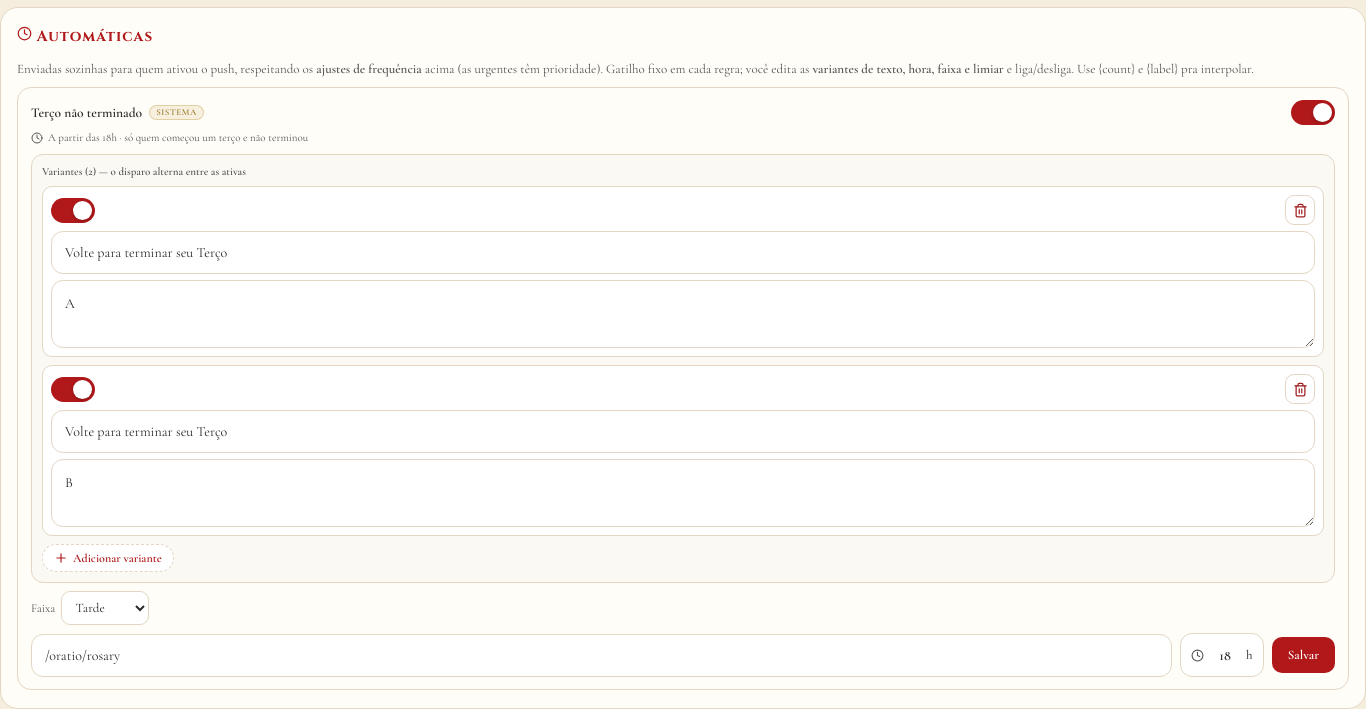
Test case: AdminNotifications › deletes a variant after confirmation via deleteVariant
The image size is (1366, 709).
(page scrolled)
Expected: the text "Variantes (2) — o disparo alterna entre as ativas" is shown, [42, 165, 246, 178]
Click the button named "Remover variante 2" at coordinates (1300, 389), box [1285, 374, 1315, 404]
(page scrolled)
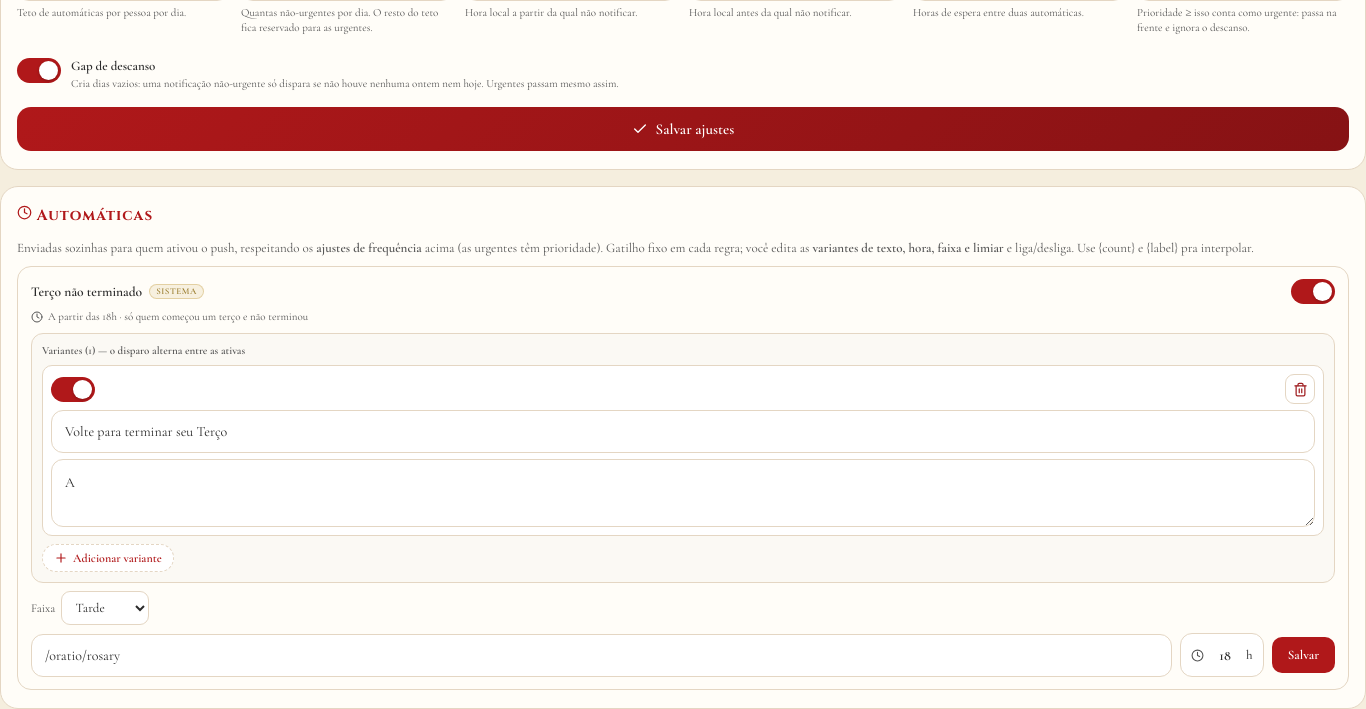
Now the text "Variantes (1) — o disparo alterna entre as ativas" is shown, box [42, 344, 245, 357]
